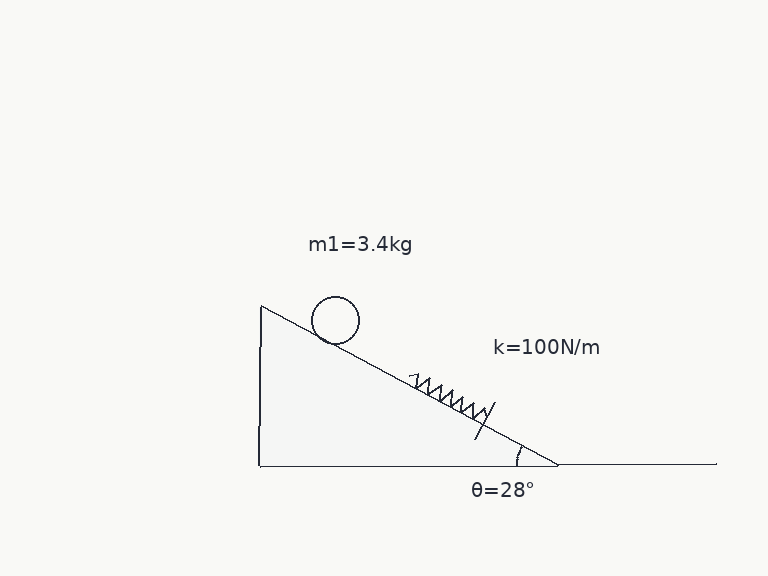ball: (309, 294, 361, 346)
ramp: (257, 305, 559, 467)
spring: (407, 371, 489, 420)
